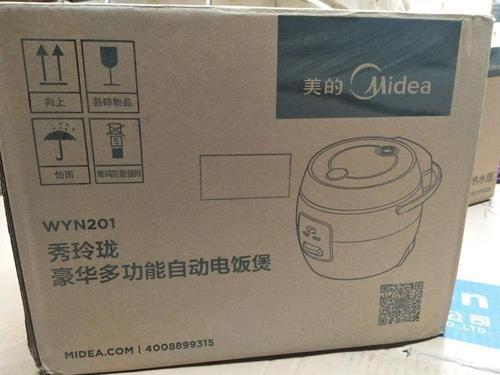cardboard: (0, 0, 485, 375)
